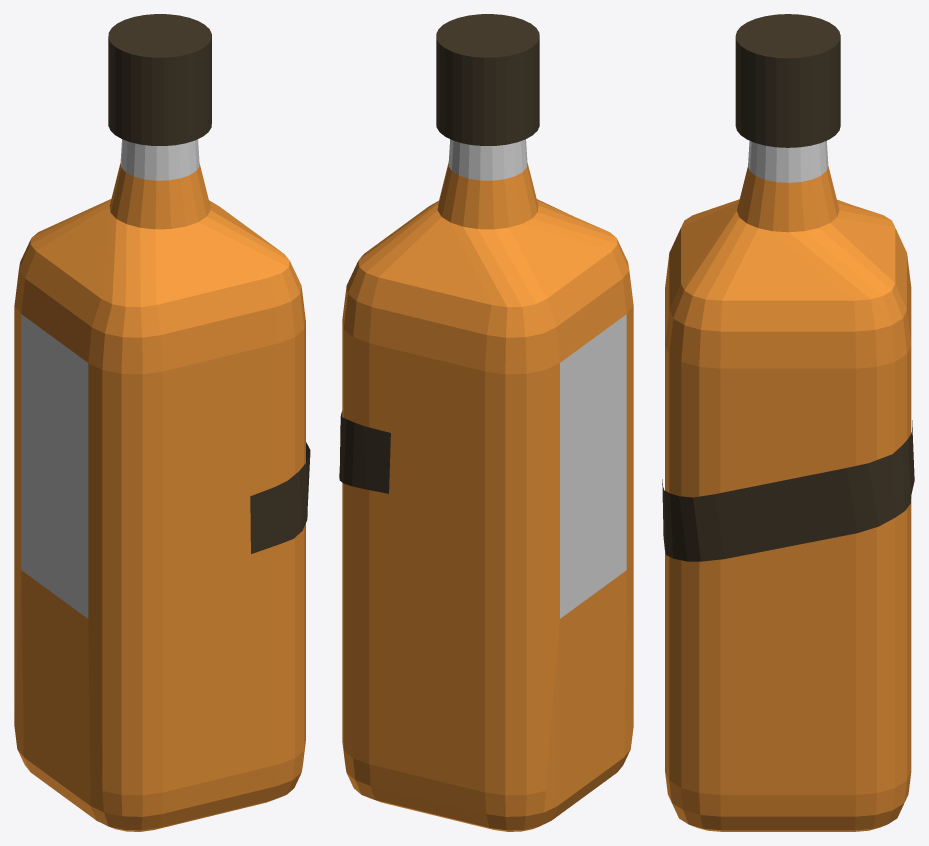
Rendered from liquor2.fbx.
3 renders of one model, left to right at view 1: azimuth 30°, elevation 25°; view 2: azimuth 150°, elevation 25°; view 3: azimuth 270°, elevation 25°, orthographic.
Parts seen in each view (by area): view 1: Cube.002; view 2: Cube.002; view 3: Cube.002.
Part boxes in pixels (x1,y1,x2,y2): Cube.002: (14,14,310,831); Cube.002: (339,14,633,831); Cube.002: (662,14,914,831).
Size of the model in its own units: 158 by 526 by 160.
